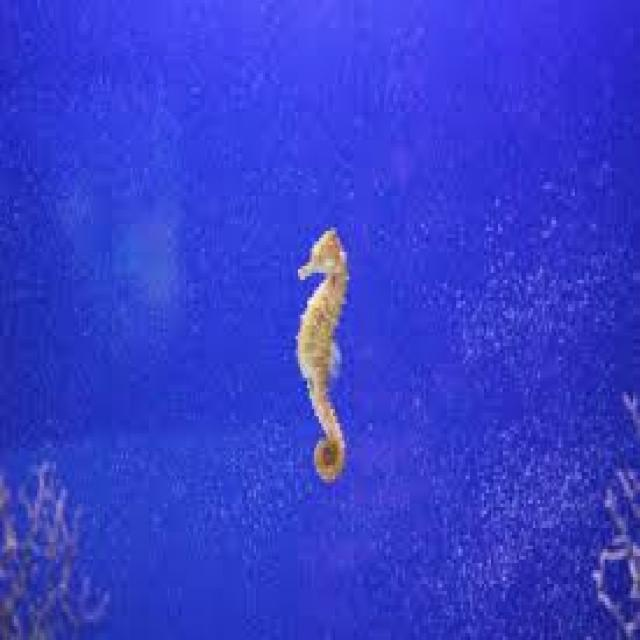SeaHorse: (296, 227, 350, 486)
